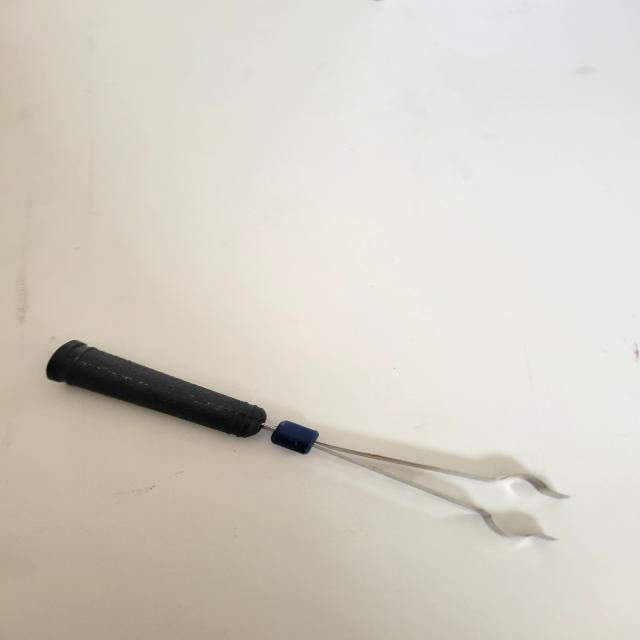TestTube_Holder: (25, 317, 572, 563)
